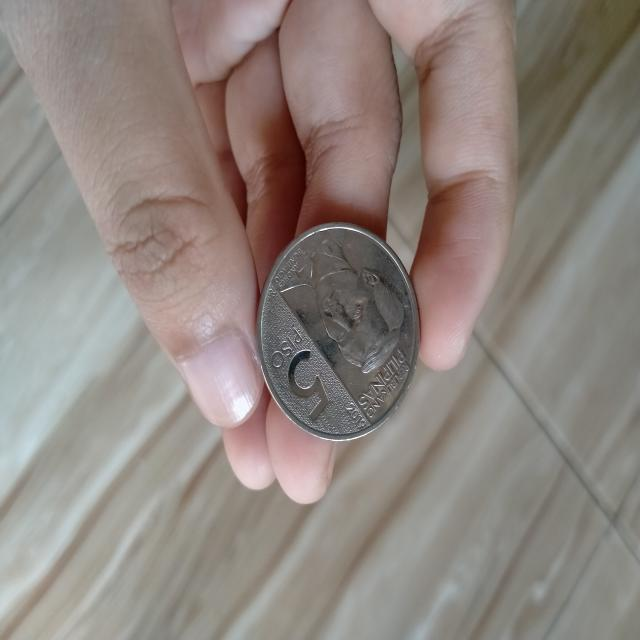5_New_Front: (259, 318, 336, 428)
